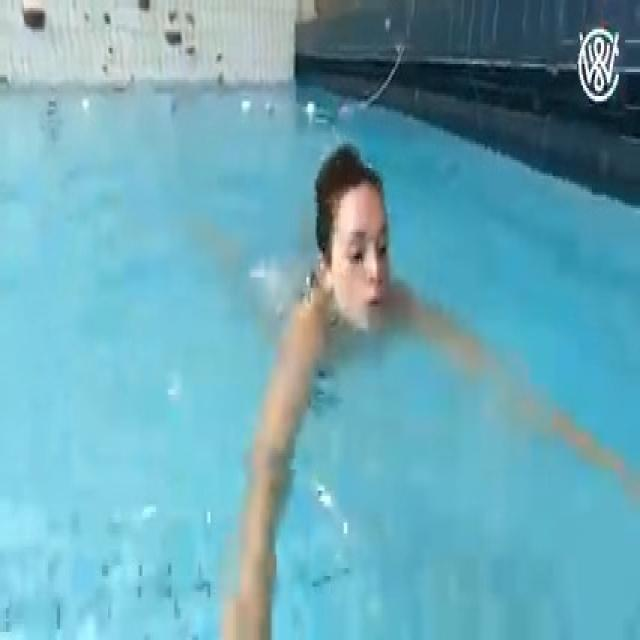Swimming: (215, 127, 558, 570)
